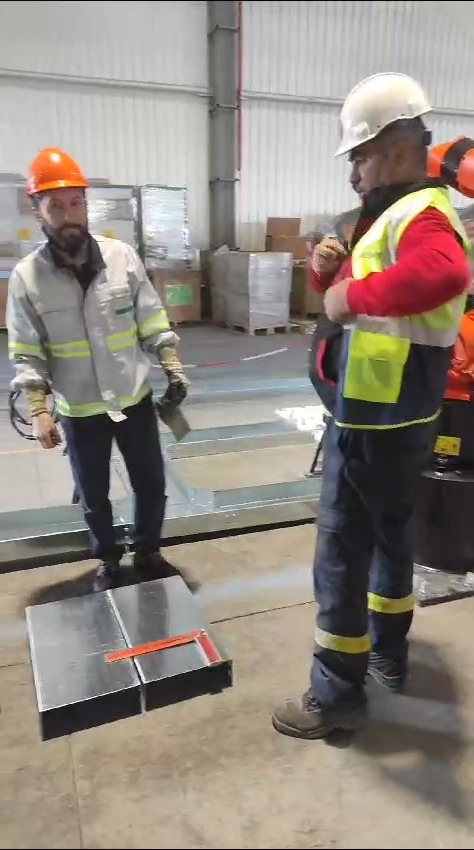safety_helmet: (332, 70, 433, 158), (25, 146, 89, 197)
